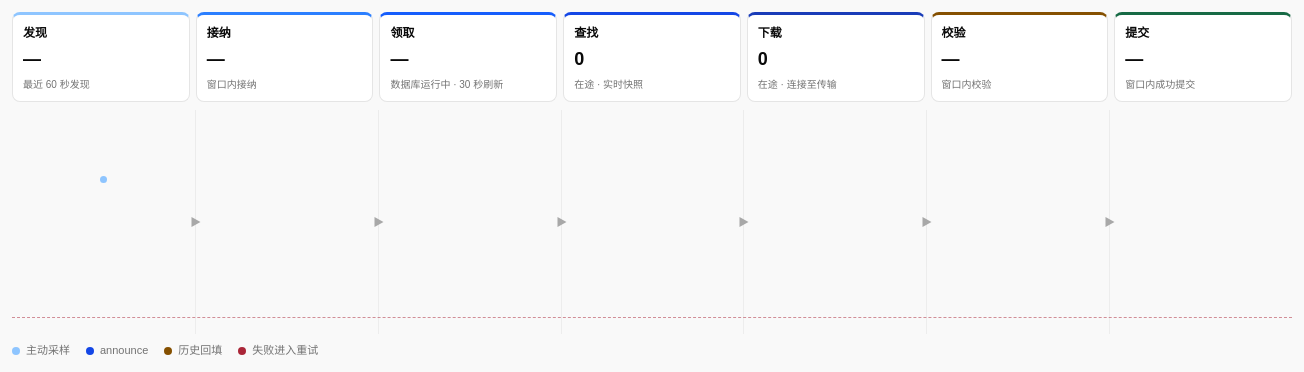
粒子保持可观察的视觉标识，但不再导航到 hash 详情
Hover over the element with test id "pipeline-particle".
mouse_move(103, 179)  # box 100,176 -> 107,183
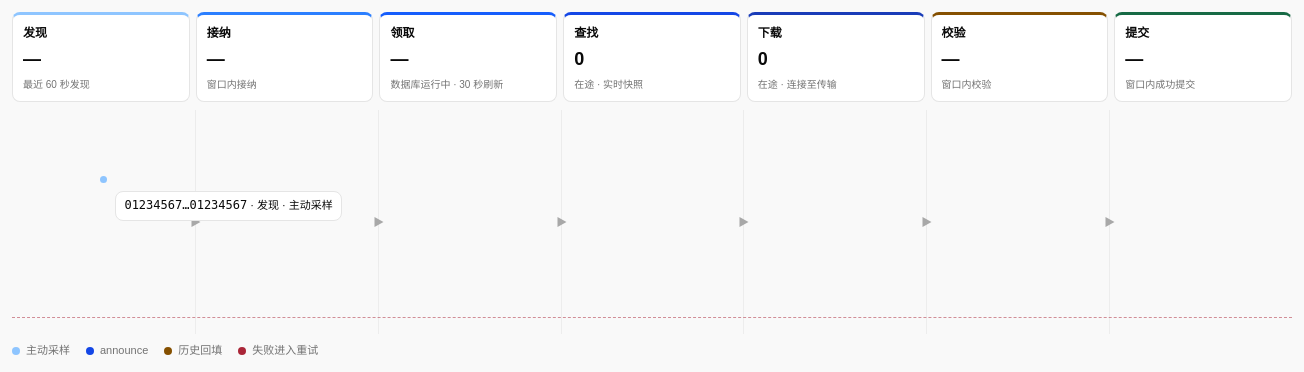
Now the text "01234567…01234567 · 发现 · 主动采样" is shown, box 115,191 -> 342,220
